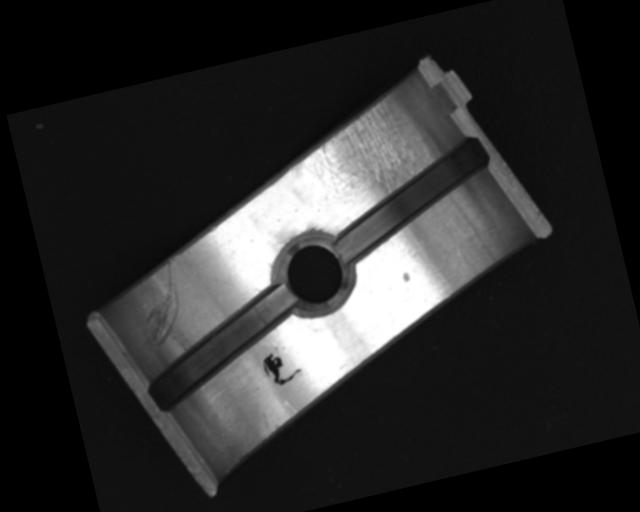blot: (260, 346, 306, 389)
bruise: (401, 270, 412, 283)
gap: (320, 133, 505, 265), (129, 283, 312, 415)
hole: (271, 231, 359, 320)
nick: (129, 258, 192, 352)
scratch: (286, 90, 441, 212)
